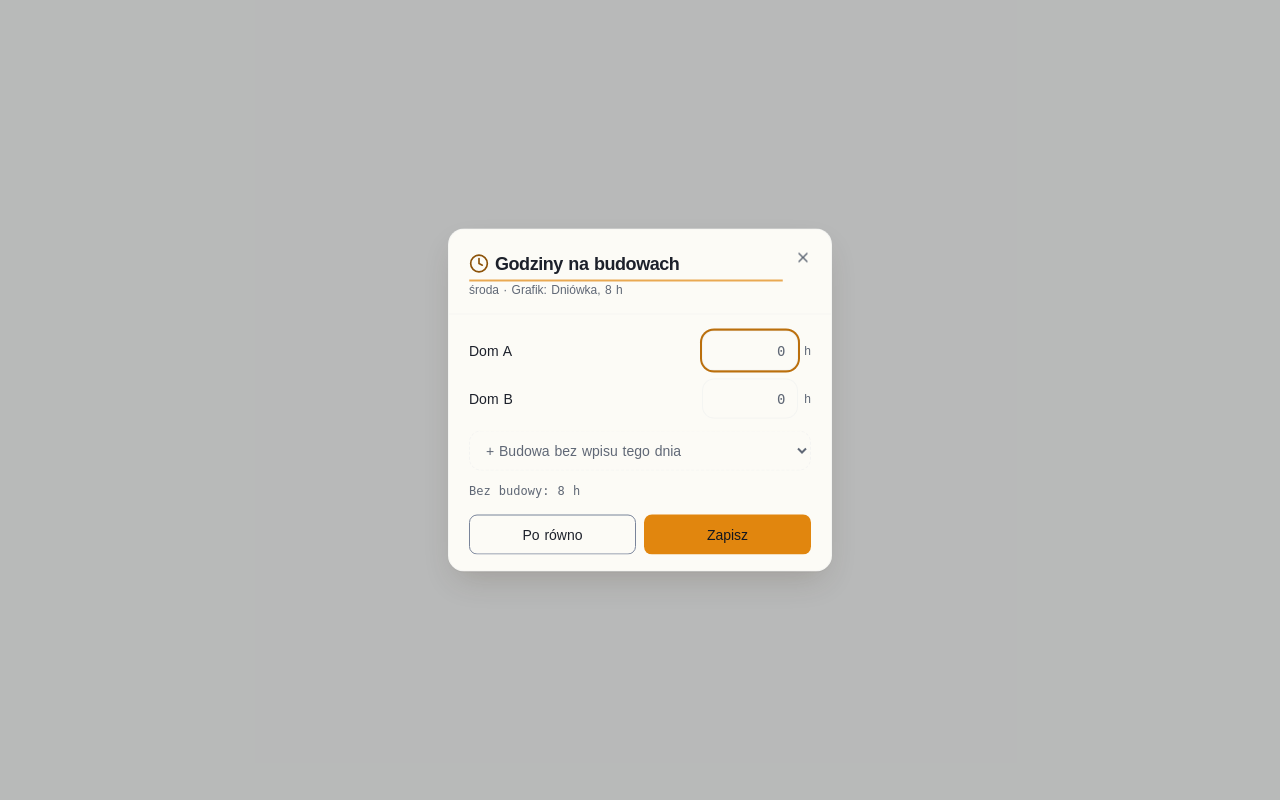
DayHoursDialog — godziny na budowach › przy jednym pustym polu pokazuje resztę dnia
In the field named "Godziny: Dom A": x=750, y=350 [702,330,798,370], type "6"
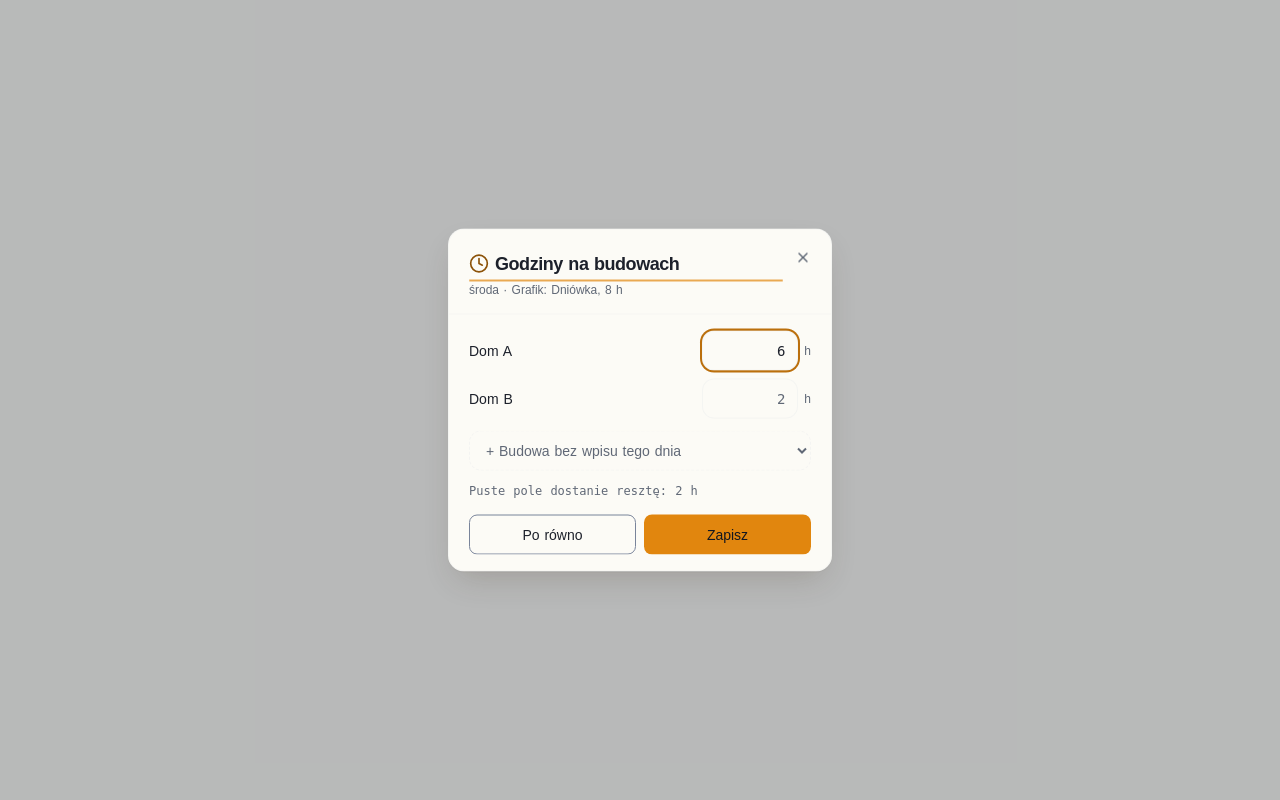
Expected: the message with test id "day-hours-left" shows "Puste pole dostanie resztę", [469,484,698,498]
